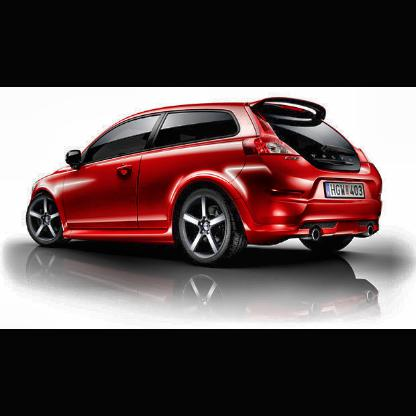Volvo C30 Hatchback 2012: (24, 95, 386, 266)
